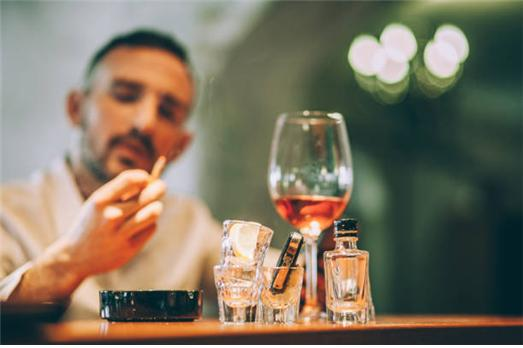alcohol: (268, 110, 353, 321), (325, 220, 371, 324), (219, 219, 274, 287), (214, 264, 260, 324), (260, 267, 305, 324)
cigarette: (141, 155, 166, 181)
